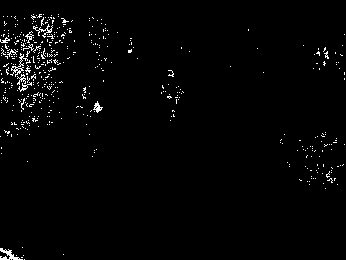person: (160, 68, 184, 124)
